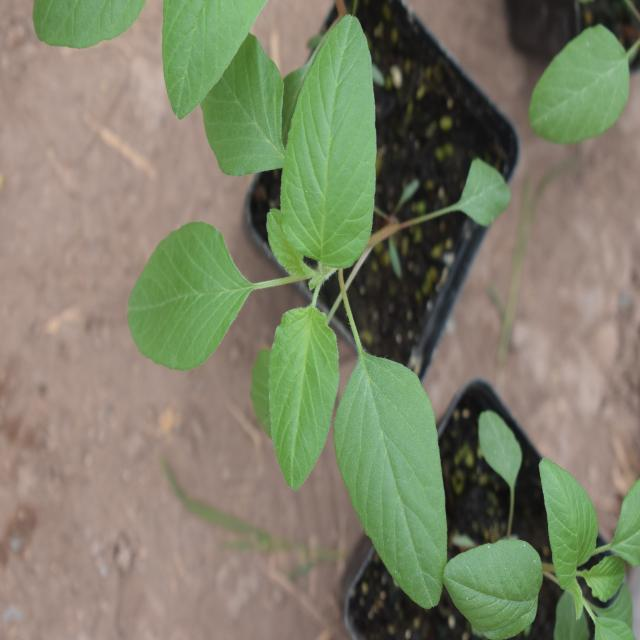pigweed: (164, 19, 456, 608)
